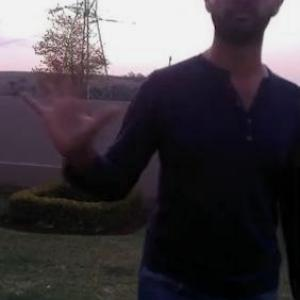follow_hand: (17, 49, 120, 158)
